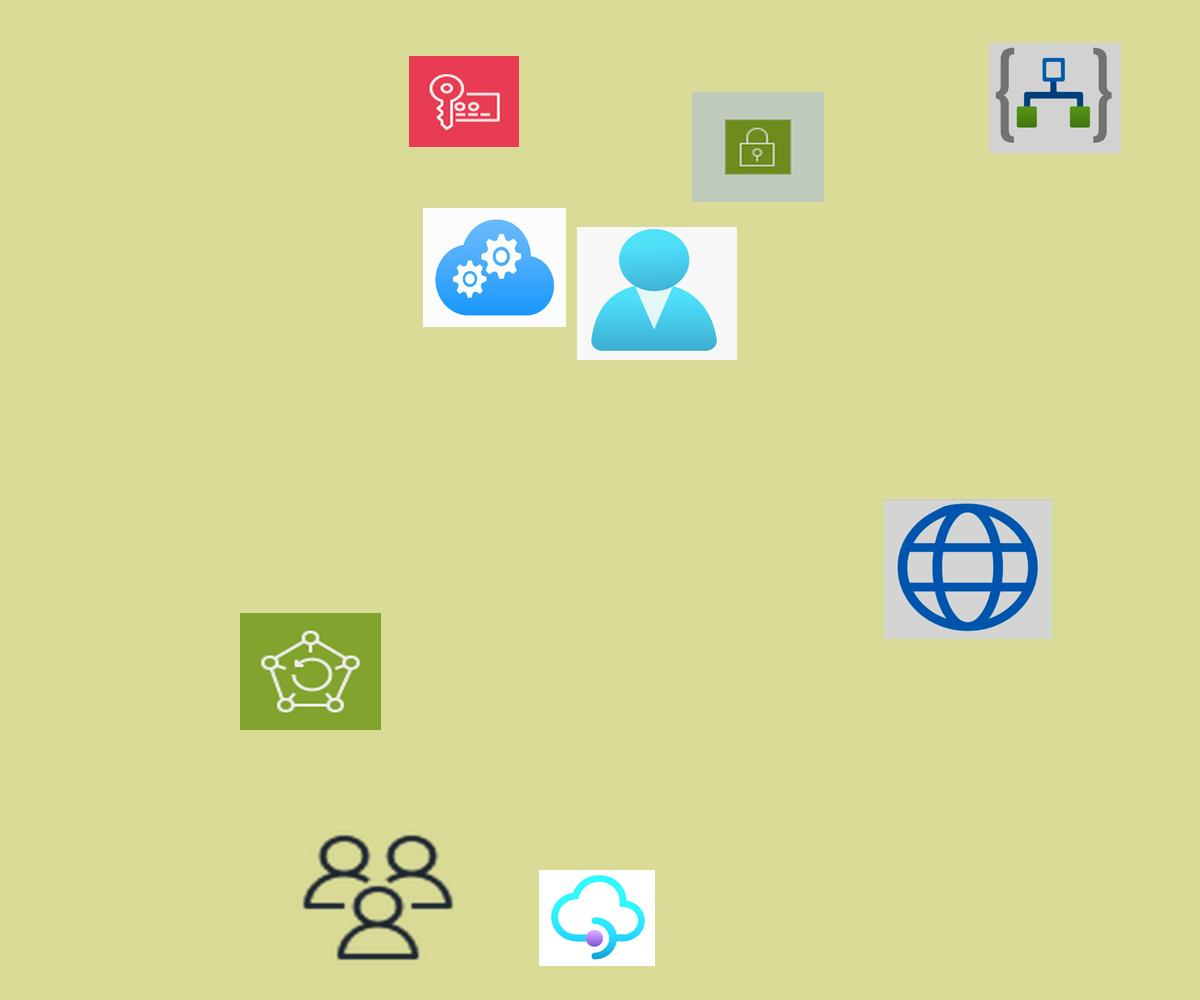AWS-Backup: (240, 613, 381, 730)
AWS-Key-Management-Service: (409, 56, 519, 147)
AWS-Public-subnet: (692, 92, 824, 202)
AWS-Res_Users: (297, 830, 459, 965)
Azure_api_gateway: (539, 870, 655, 966)
Azure_cloud_services: (423, 208, 566, 327)
Azure_http: (884, 499, 1052, 639)
Azure_integration-204-Logic-Apps: (989, 43, 1121, 153)
Azure_users: (577, 227, 737, 360)
